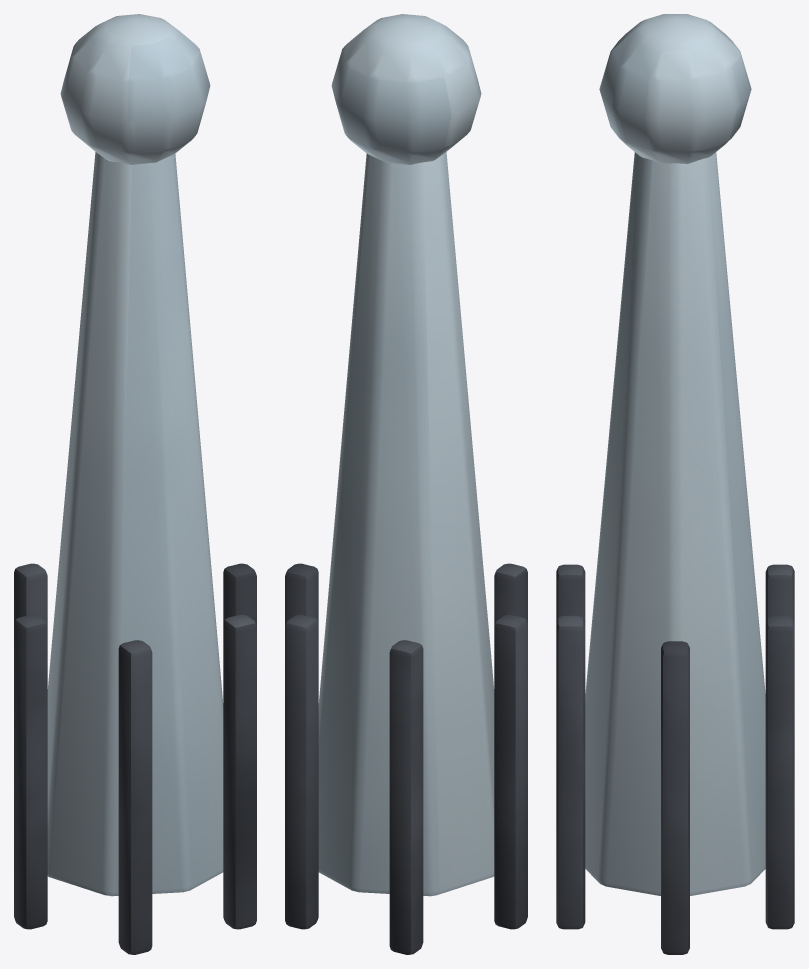
The model's file is unit_veiled_souling.fbx.
3 renders of one model, left to right at view 1: azimuth 30°, elevation 25°; view 2: azimuth 150°, elevation 25°; view 3: azimuth 270°, elevation 25°, orthographic.
Visible parts, largest first — view 1: unit_veiled_souling; view 2: unit_veiled_souling; view 3: unit_veiled_souling.
Part boxes in pixels (x1,y1,x2,y2): unit_veiled_souling: [14, 14, 256, 954]; unit_veiled_souling: [285, 14, 527, 954]; unit_veiled_souling: [556, 14, 794, 954].
Size of the model in its own units: 0.56 by 2.01 by 0.493.
